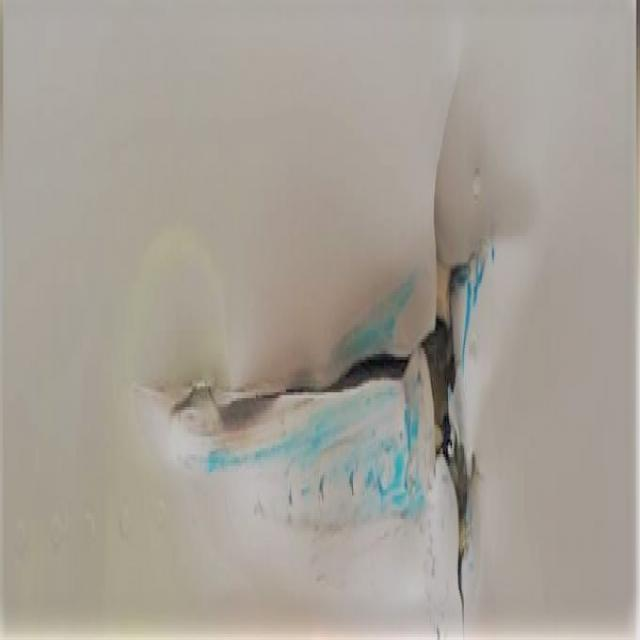crack: (136, 180, 540, 581)
